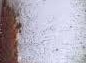Corrosion: (1, 1, 22, 63)
